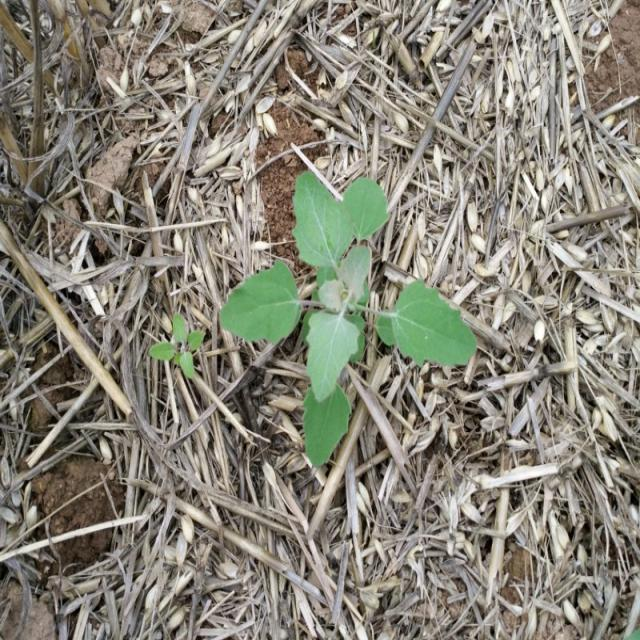ca: (216, 170, 478, 465)
